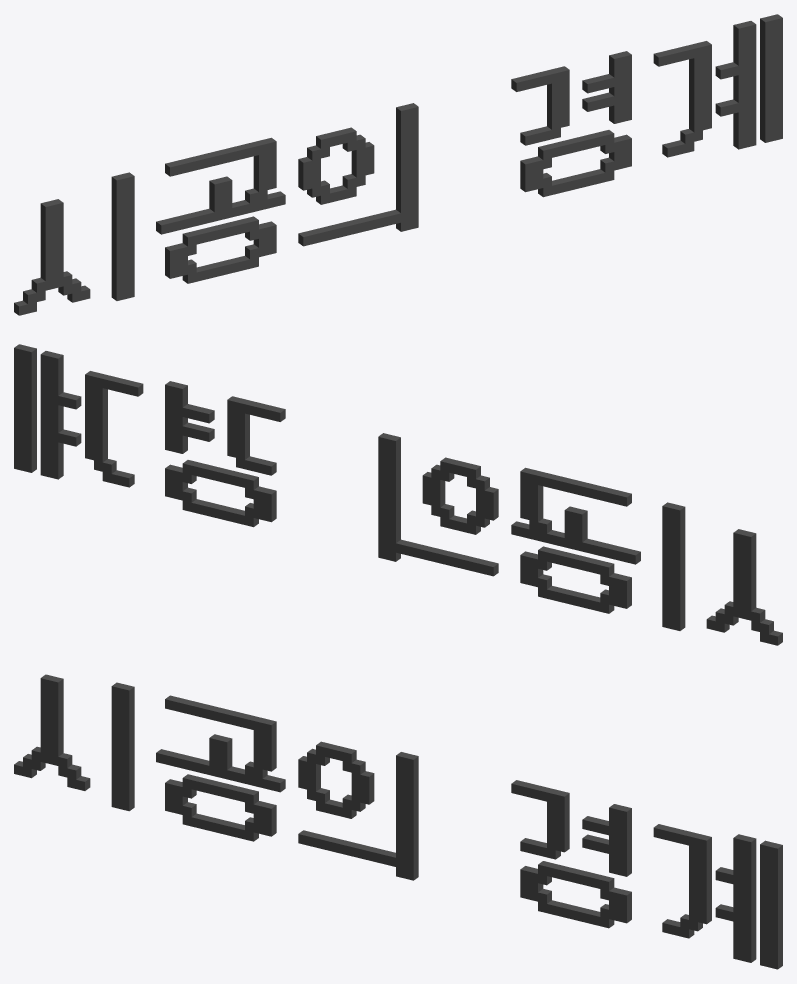
The model's file is title.obj.
3 views of the same model, one above another, from view 1: azimuth 30°, elevation 25°; view 2: azimuth 150°, elevation 25°; view 3: azimuth 330°, elevation 25° (orthographic).
Bounding box in the file's own units: 86 × 13 × 1.
1 material, 1 textured.
